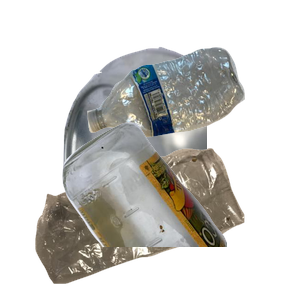glass: (60, 120, 300, 300)
metal: (60, 44, 300, 224)
plastic: (85, 45, 300, 175)
trash: (33, 145, 270, 300)
